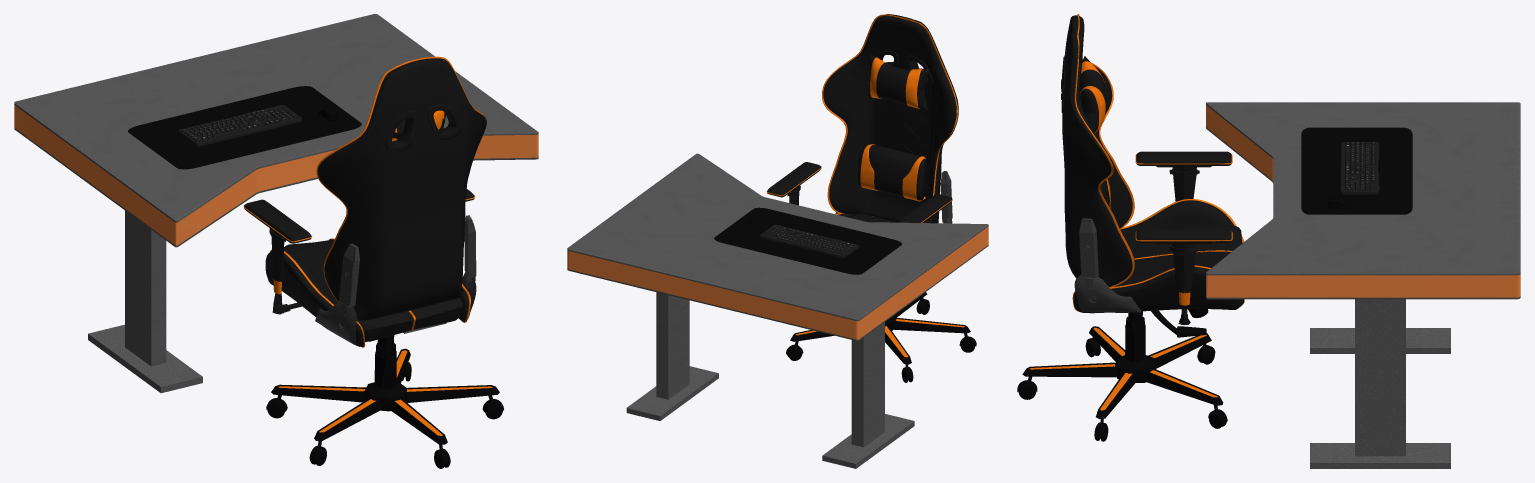
The model's file is studio-setup.glb.
3 views of the same model, side by side, from view 1: azimuth 30°, elevation 25°; view 2: azimuth 150°, elevation 25°; view 3: azimuth 270°, elevation 25° (orthographic). The views are drawn at different scales.
Parts seen in each view (by area): view 1: Desk, Chair, Mouse, Keyboard; view 2: Desk, Chair, Mouse, Keyboard; view 3: Desk, Chair, Mouse, Keyboard.
Boxes of the visible parts, box(x1,y1,x2,y2) form: Desk: box(14, 14, 538, 393); Chair: box(243, 56, 503, 468); Mouse: box(128, 86, 361, 169); Keyboard: box(178, 104, 302, 146); Desk: box(567, 153, 988, 468); Chair: box(766, 14, 976, 382); Mouse: box(714, 207, 901, 274); Keyboard: box(759, 224, 858, 258); Desk: box(1206, 102, 1520, 468); Chair: box(1017, 14, 1244, 441); Mouse: box(1301, 127, 1412, 214); Keyboard: box(1340, 142, 1379, 194).
Bounding box in the file's own units: 1.31 × 1.34 × 1.63.
Materials: 12 (5 with a texture image).
